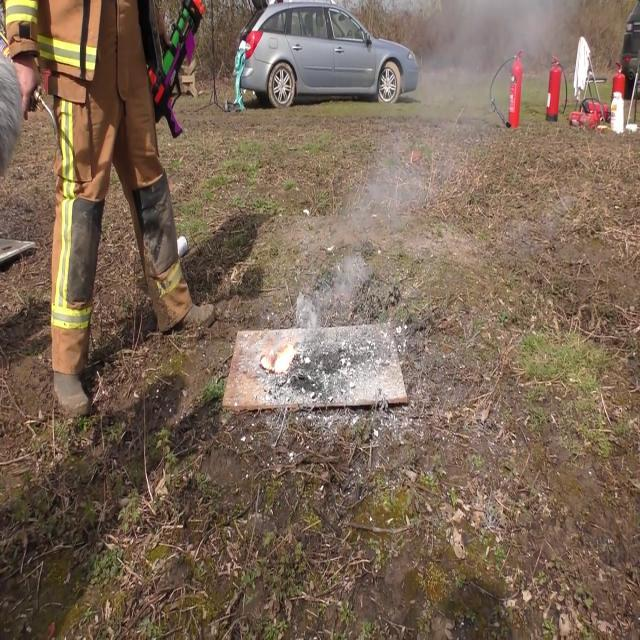Fire: (262, 332, 300, 375)
Smoke: (327, 132, 435, 308)
